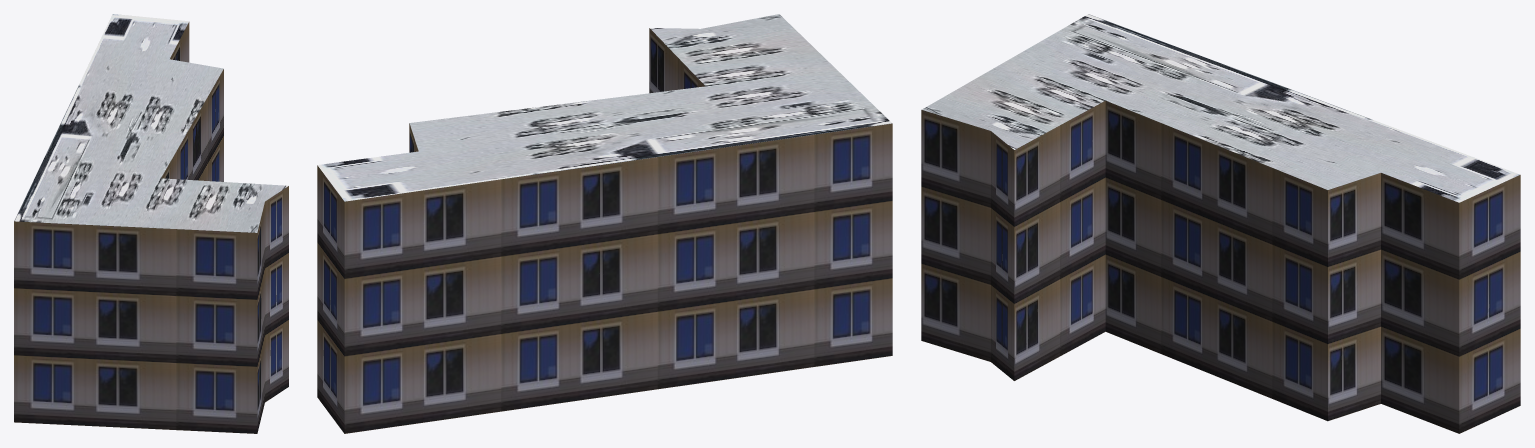
The model's file is ResTex__3257.fbx.
3 renders of one model, left to right at view 1: azimuth 30°, elevation 25°; view 2: azimuth 150°, elevation 25°; view 3: azimuth 270°, elevation 25°, orthographic. The views are drawn at different scales.
Visible parts, largest first — view 1: CityEngineMaterial_5_m, CityEngineMaterial_4_m; view 2: CityEngineMaterial_5_m, CityEngineMaterial_4_m; view 3: CityEngineMaterial_5_m, CityEngineMaterial_4_m.
Part boxes in pixels (<box>): CityEngineMaterial_5_m: <box>14,22,288,433</box>; CityEngineMaterial_4_m: <box>14,14,288,232</box>; CityEngineMaterial_5_m: <box>317,28,892,433</box>; CityEngineMaterial_4_m: <box>317,14,892,201</box>; CityEngineMaterial_5_m: <box>921,100,1520,433</box>; CityEngineMaterial_4_m: <box>922,14,1519,202</box>.
Size of the model in its own units: 15.77 by 9 by 21.14.
Materials: 2 (2 with a texture image).
